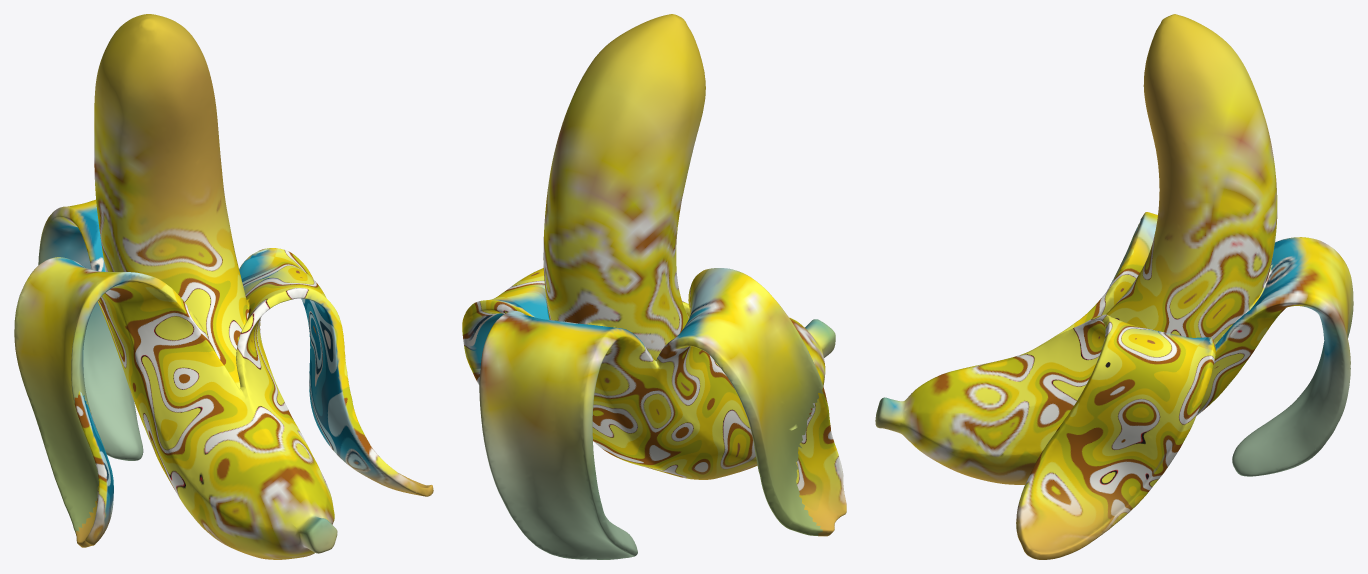
The model's file is banana.glb.
The picture shows the model from 3 angles, left to right: view 1: azimuth 30°, elevation 25°; view 2: azimuth 150°, elevation 25°; view 3: azimuth 270°, elevation 25°; orthographic projection. The views are drawn at different scales.
Parts seen in each view (by area): view 1: banana_Body0; view 2: banana_Body0; view 3: banana_Body0.
Part boxes in pixels (bbox=[...]): banana_Body0: bbox=[14, 14, 433, 559]; banana_Body0: bbox=[462, 14, 846, 559]; banana_Body0: bbox=[875, 14, 1353, 559].
Bounding box in the file's own units: 1.27 × 1.8 × 1.73.
Materials: 1 (1 with a texture image).
